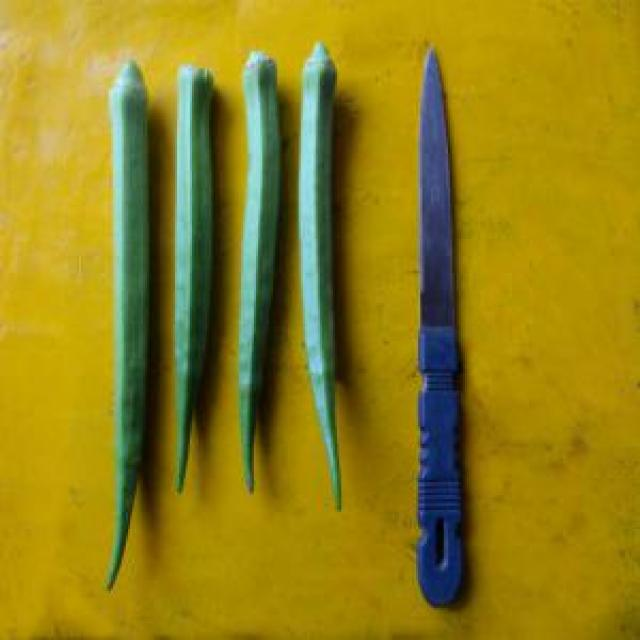knife: (414, 45, 470, 625)
